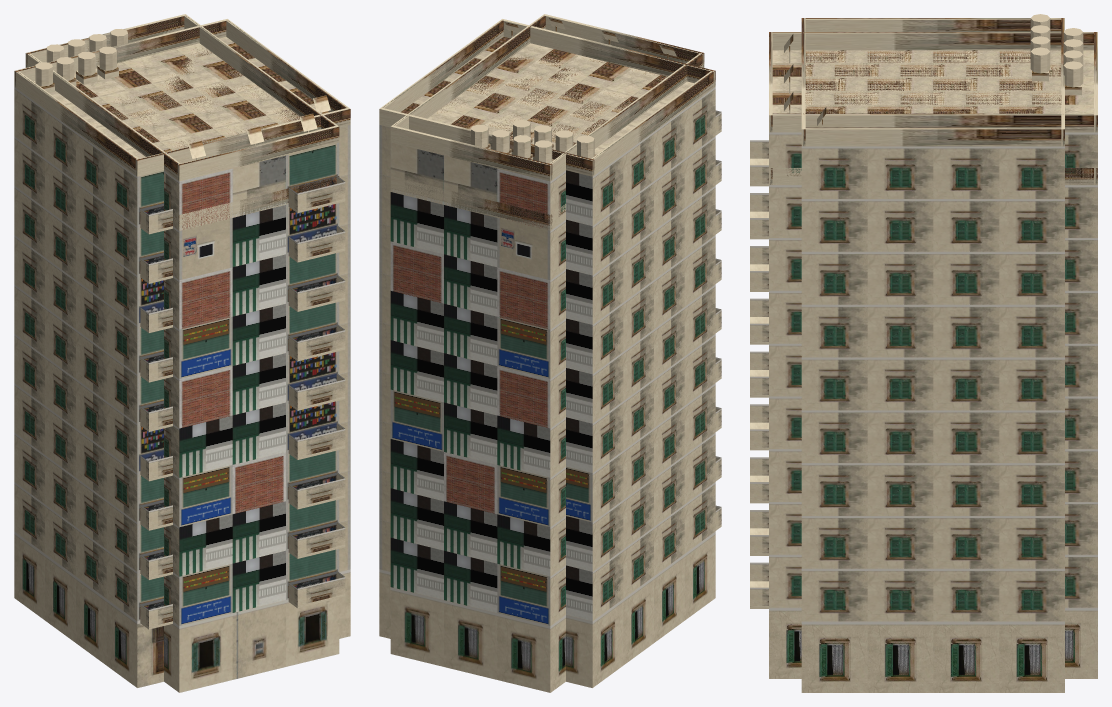
3 renders of one model, left to right at view 1: azimuth 30°, elevation 25°; view 2: azimuth 150°, elevation 25°; view 3: azimuth 270°, elevation 25°, orthographic. The views are drawn at different scales.
Visible parts, largest first — view 1: Plaster_4x4_f9_v0, Plaster_3x5_f8_v0, Plaster_3x5_f9_v1; view 2: Plaster_4x4_f9_v0, Plaster_3x5_f8_v0, Plaster_3x5_f9_v1; view 3: Plaster_4x4_f9_v0, Plaster_3x5_f8_v0, Plaster_3x5_f9_v1.
Part boxes in pixels (left/top/right/bottom): Plaster_4x4_f9_v0: left=14, top=19, right=350, bottom=687; Plaster_3x5_f8_v0: left=164, top=176, right=345, bottom=692; Plaster_3x5_f9_v1: left=25, top=14, right=345, bottom=230; Plaster_4x4_f9_v0: left=379, top=19, right=721, bottom=687; Plaster_3x5_f8_v0: left=390, top=176, right=565, bottom=692; Plaster_3x5_f9_v1: left=390, top=14, right=704, bottom=230; Plaster_4x4_f9_v0: left=801, top=14, right=1064, bottom=692; Plaster_3x5_f8_v0: left=750, top=168, right=1097, bottom=678; Plaster_3x5_f9_v1: left=750, top=28, right=1097, bottom=186.
Size of the model in its own units: 14 by 33.65 by 18.5.
1 material, 1 textured.
